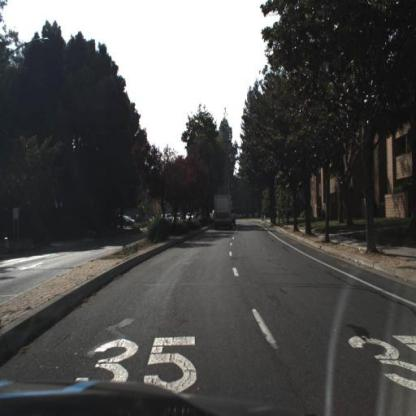truck: (213, 193, 237, 237)
